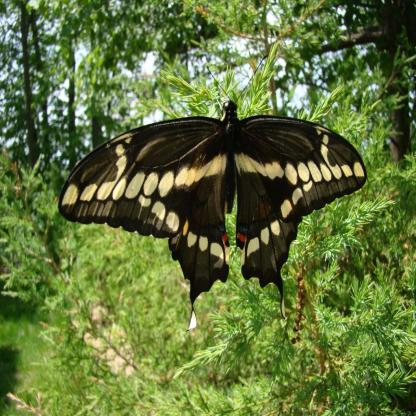Giant Swallowtail: (32, 71, 370, 326)
